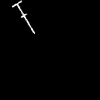double_crochet: (12, 1, 34, 33)
